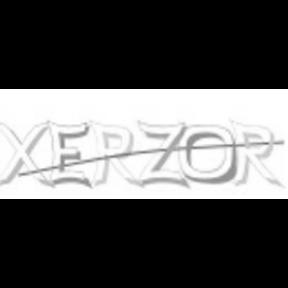E: (48, 120, 90, 188)
O: (176, 122, 238, 186)
R: (226, 117, 284, 187), (89, 119, 138, 188)
X: (0, 120, 50, 188)
Z: (138, 119, 188, 187)
